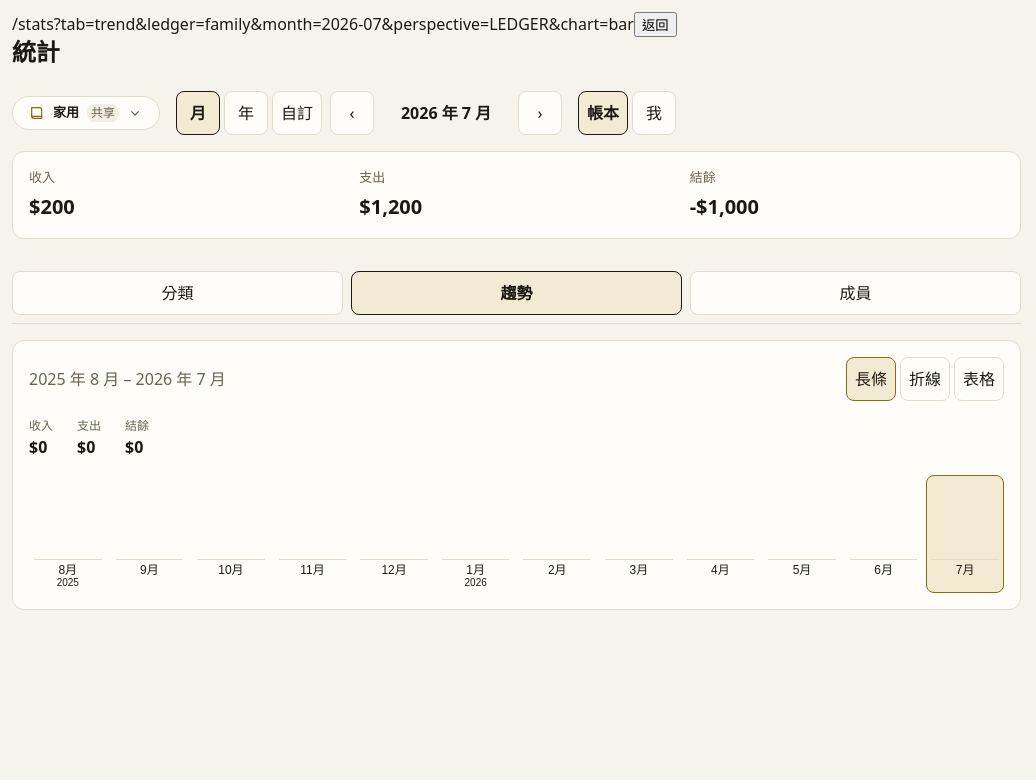
Test: StatsPage › uses the selected month, year end, and custom end month for trend requests
Expected: the list named "每月收支" is shown, [29, 474, 1004, 593]
Click the button "年" at (246, 113), box [224, 91, 268, 135]
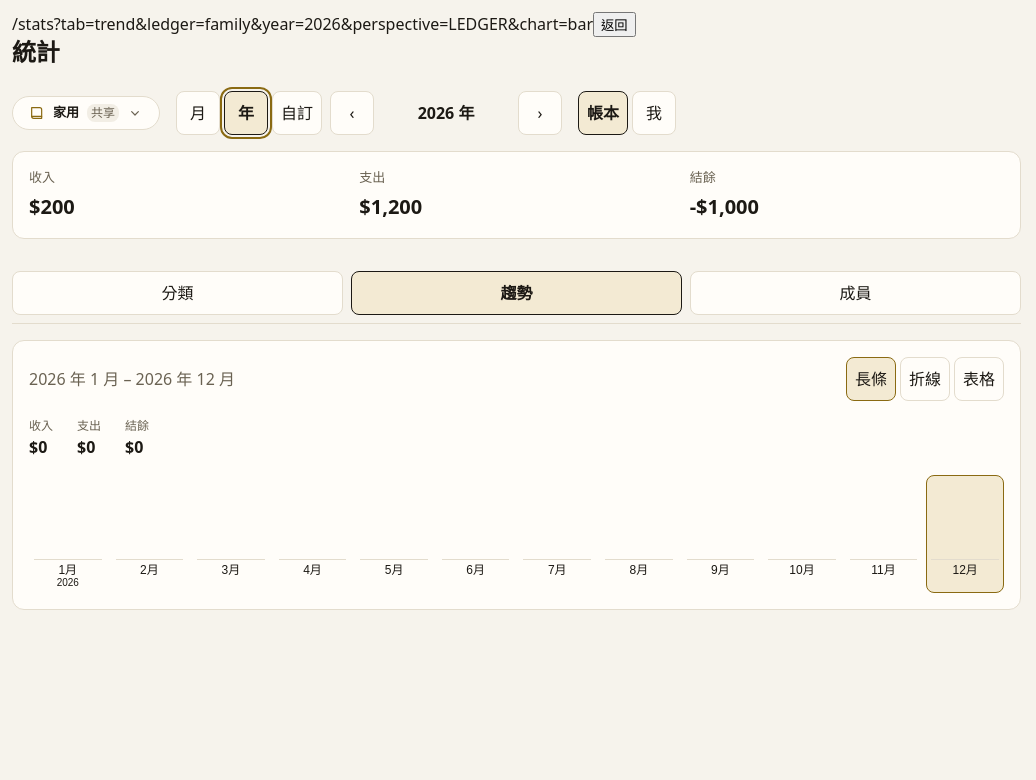
Click the button "自訂" at (297, 113), box [272, 91, 322, 135]
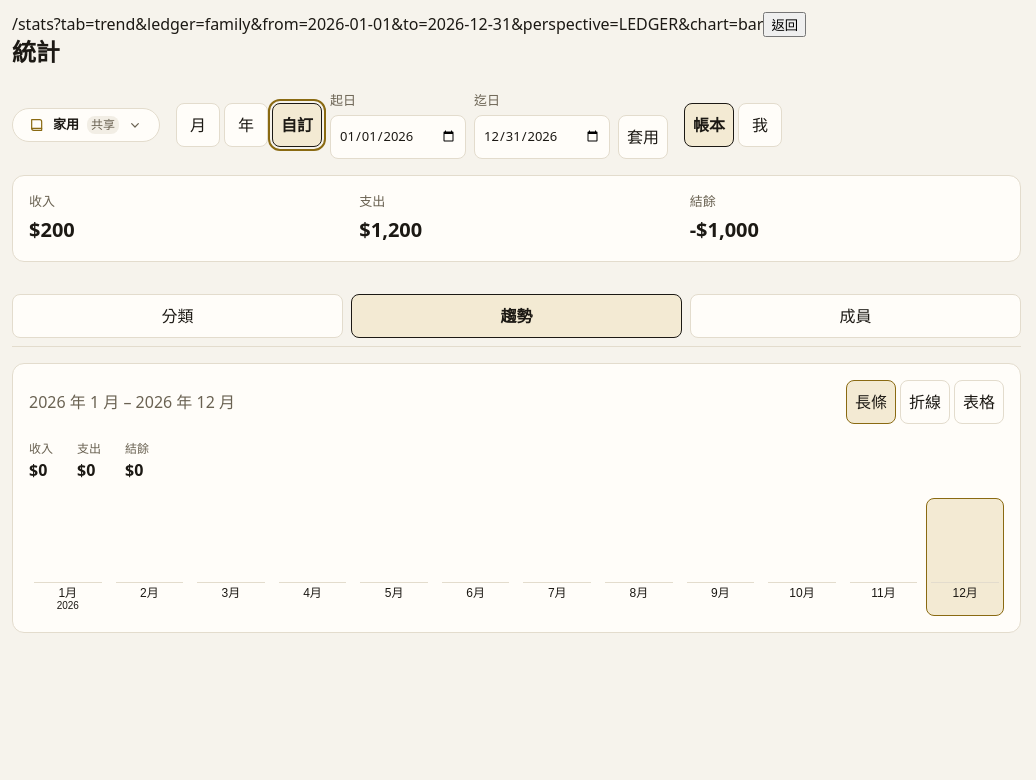
Type "2026-10-05" into the date field named "自訂起日" at (398, 136), box [330, 114, 466, 158]
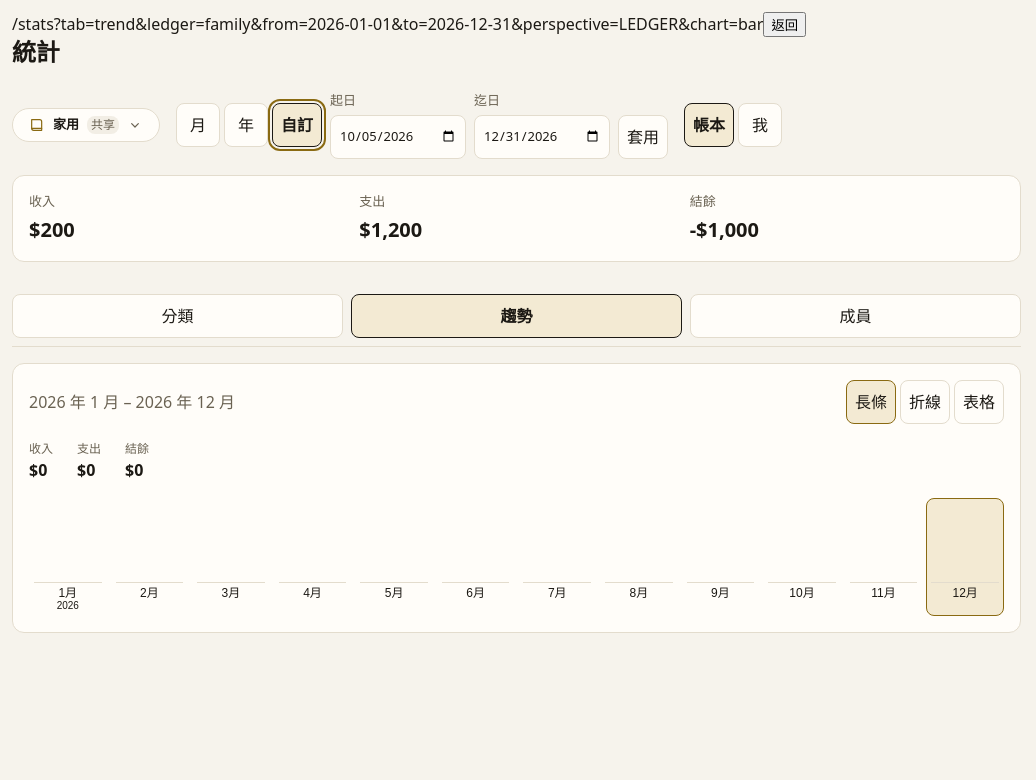
Type "2026-10-20" into the date field named "自訂迄日" at (542, 136), box [474, 114, 610, 158]
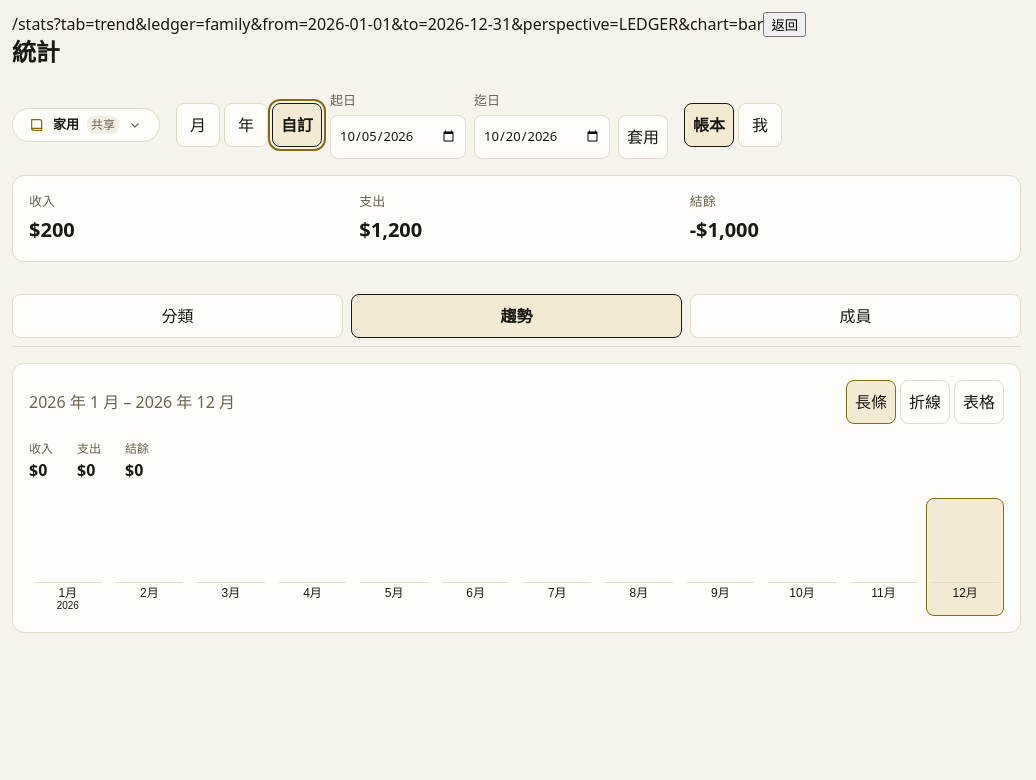
Click the button "套用" at (643, 136), box [618, 114, 668, 158]
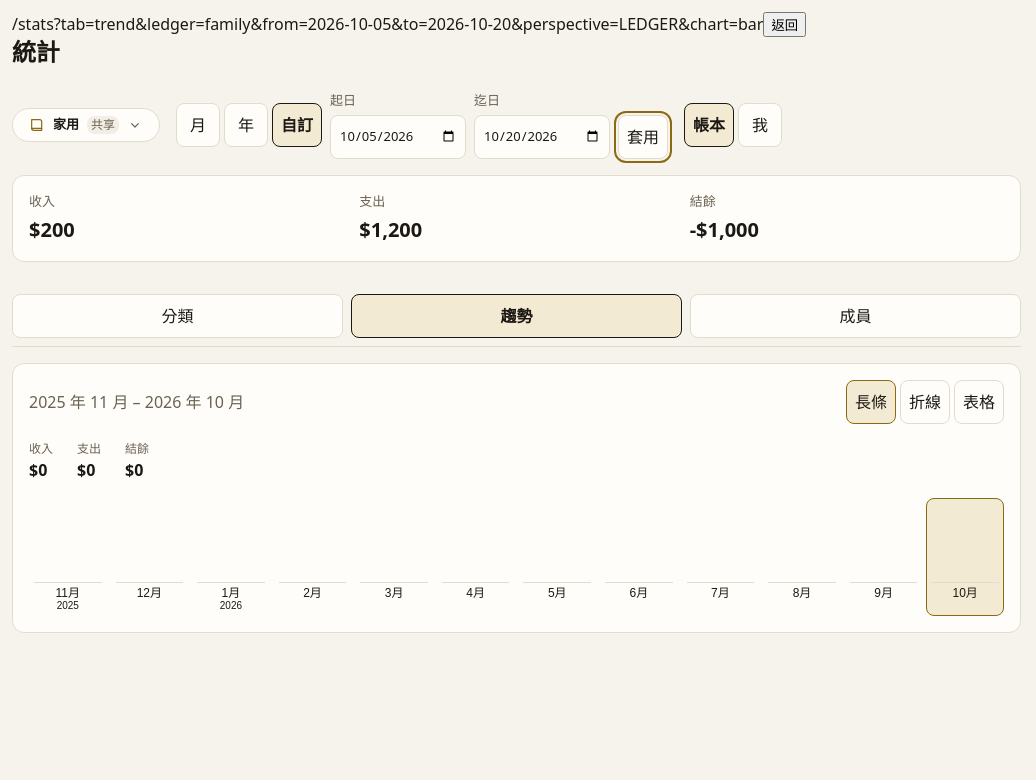
Now the text with test id "location" shows "from=2026-10-05&to=2026-10-20", box [54, 13, 763, 35]
